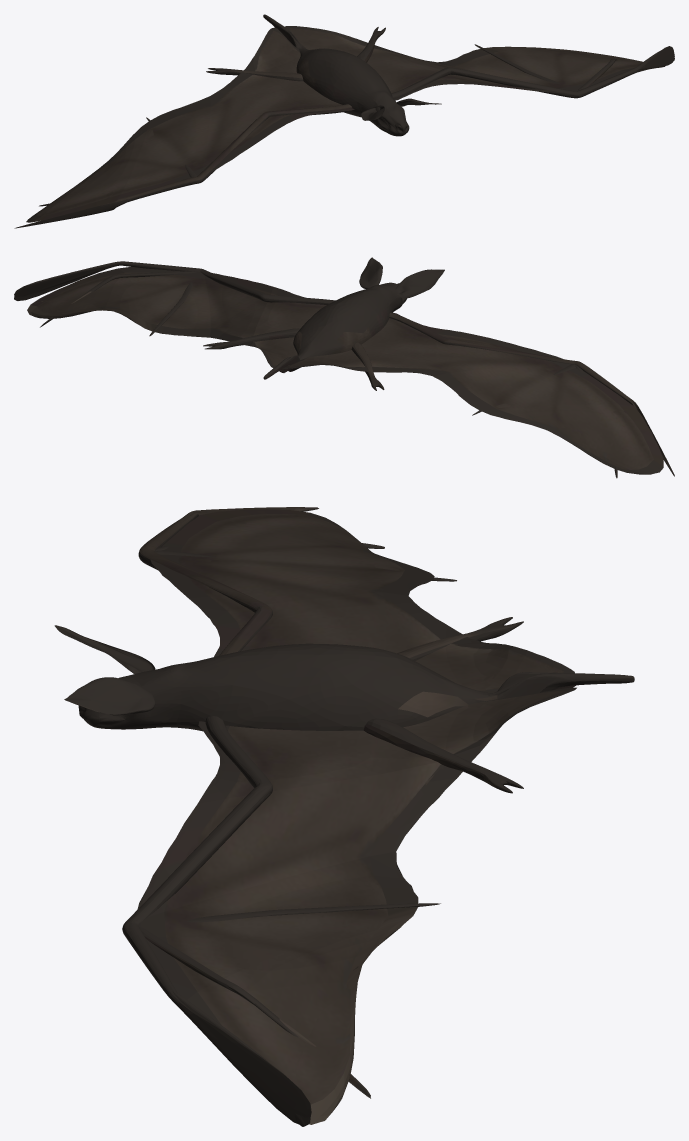
The model's file is batLowPoly.fbx.
3 renders of one model, top to bottom at view 1: azimuth 30°, elevation 25°; view 2: azimuth 150°, elevation 25°; view 3: azimuth 270°, elevation 25°, orthographic. The views are drawn at different scales.
Parts seen in each view (by area): view 1: bat; view 2: bat; view 3: bat.
Boxes of the visible parts, x1,y1,x2,y2 form: bat: (14, 14, 674, 228); bat: (14, 257, 674, 478); bat: (54, 507, 634, 1126).
Bounding box in the file's own units: 262 × 34.33 × 99.98.
